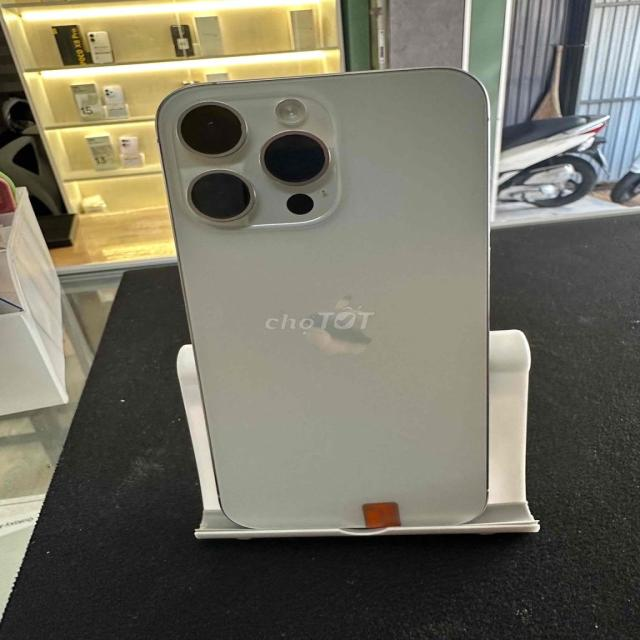gen_15: (155, 74, 545, 537)
